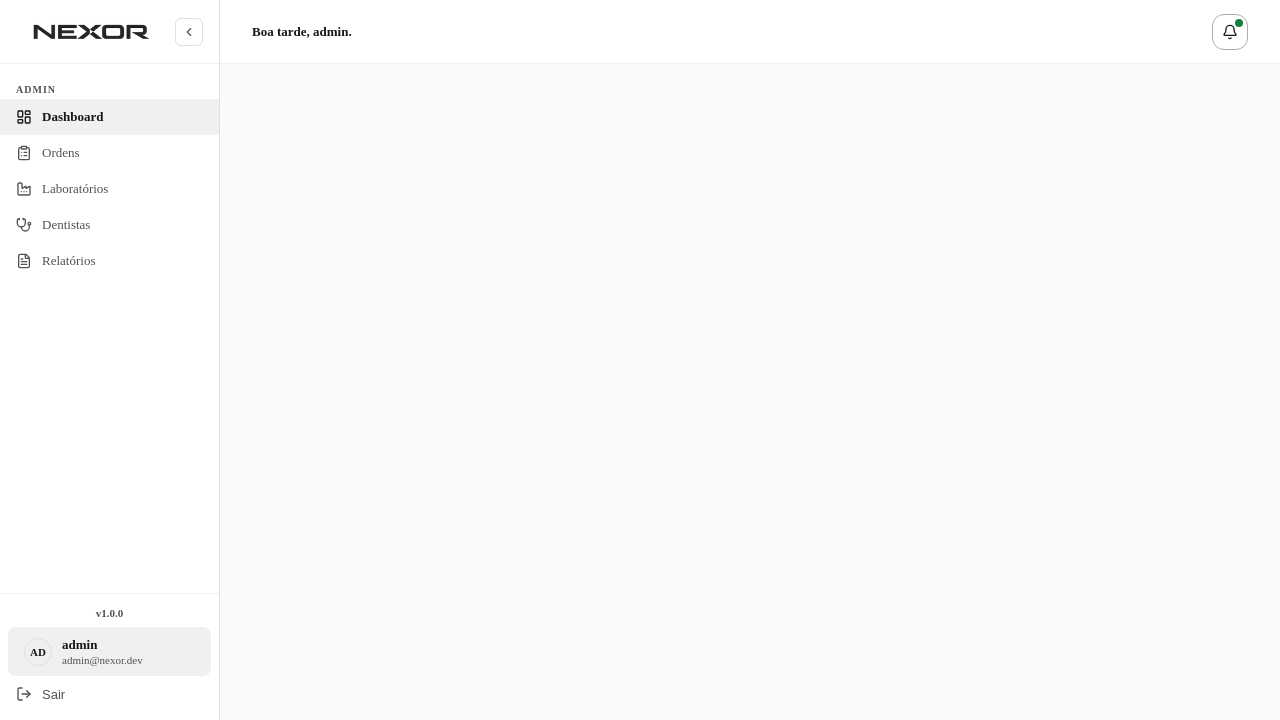
Test: PortalLayout navigation › opens a notification modal with the full message
Click the button named "notificações" at (1230, 32), box [1212, 14, 1248, 50]
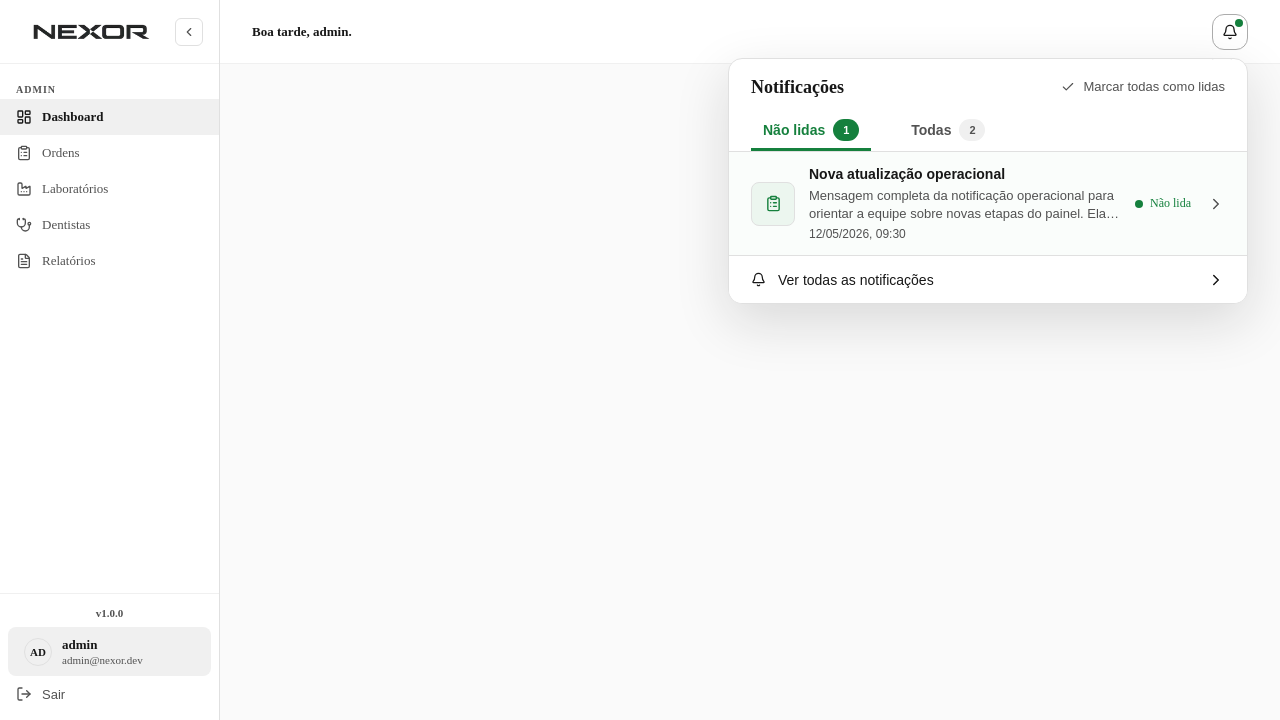
Click the button with aria-label "abrir notificação nova atualização operacional" at (936, 204), box [751, 166, 1121, 241]
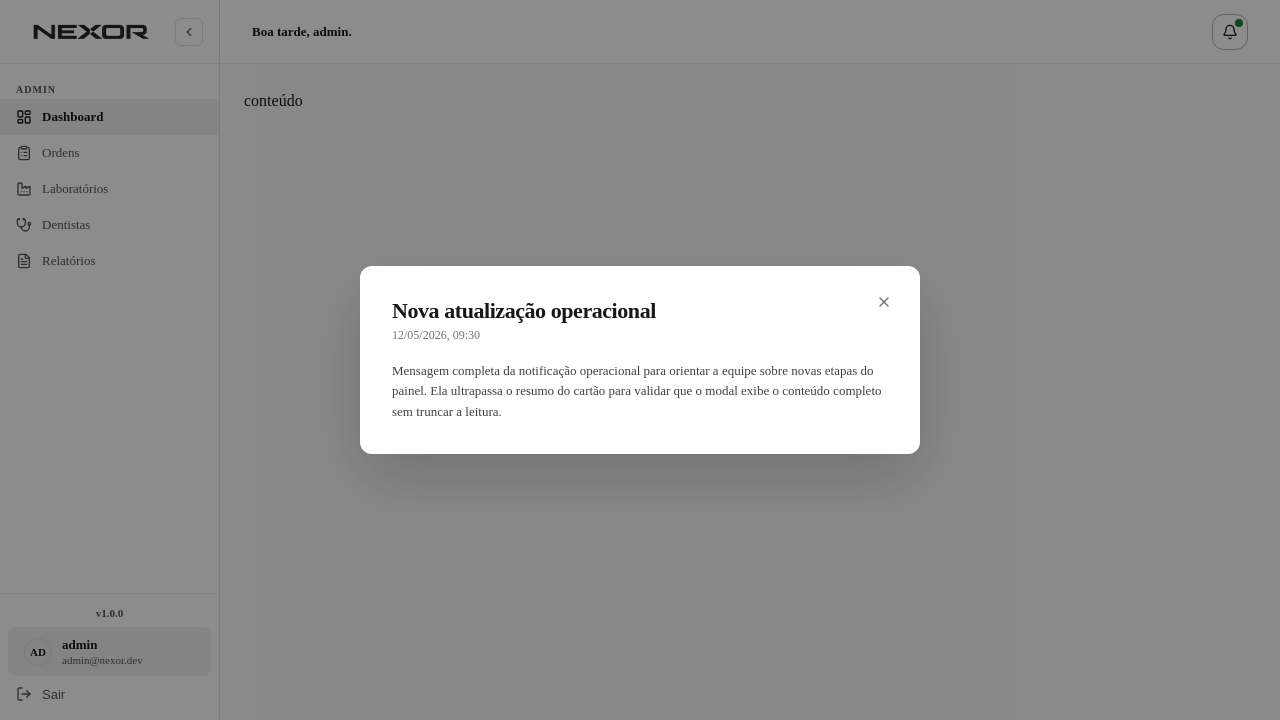
Expected: the text "ela ultrapassa o resumo do cartão" is shown, [392, 363, 882, 419]
Expected: the dialog "Nova atualização operacional" is shown
